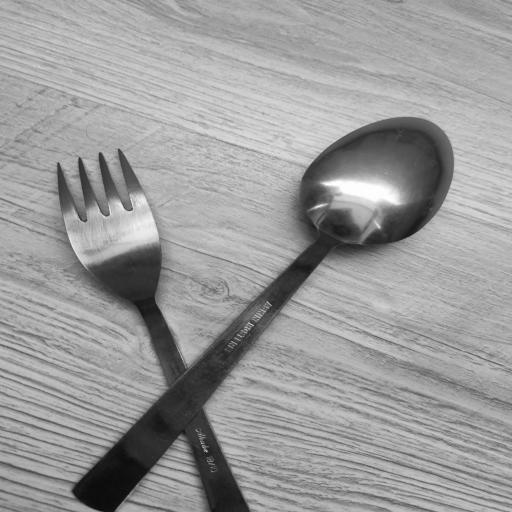fork: (49, 142, 249, 512)
spoon: (76, 110, 455, 512)
